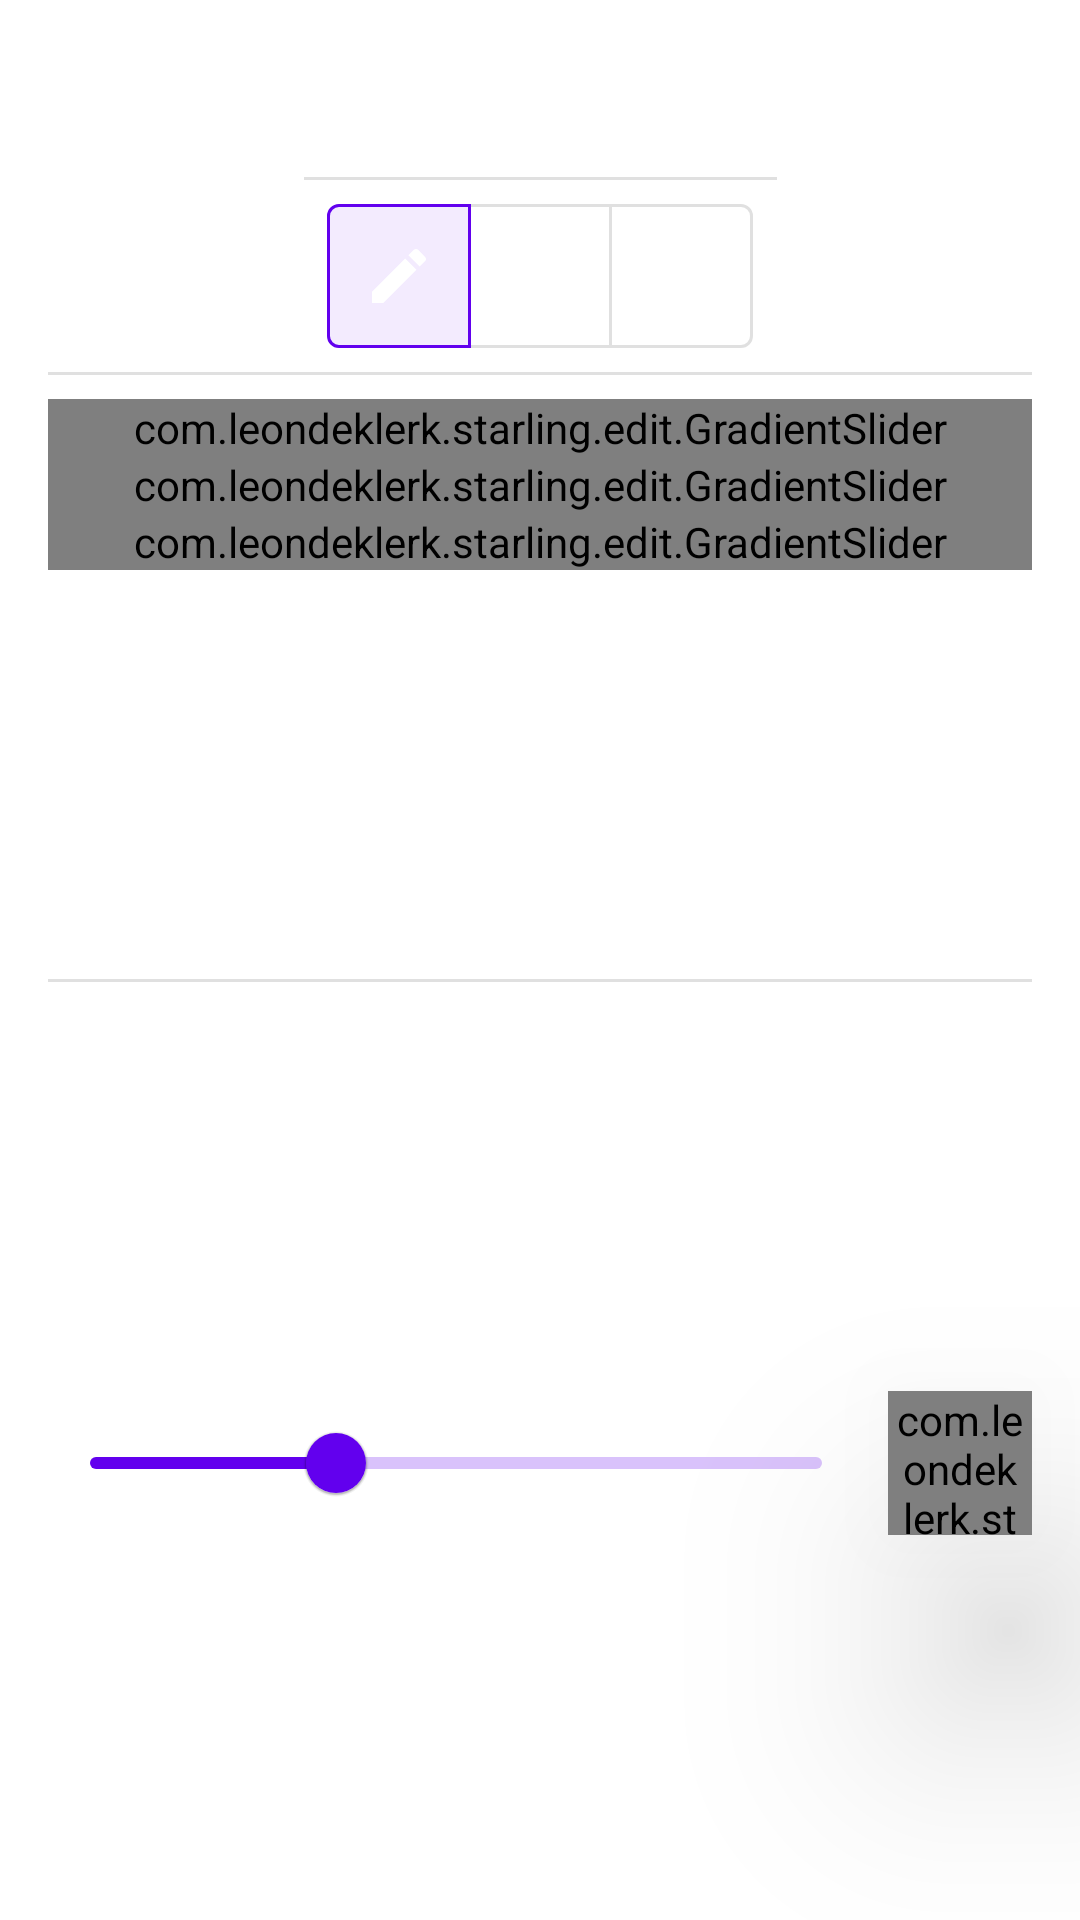

Named icons in this screenshot (1080px x 1920px) and their centers, point (x, y):
pencil: point (399, 276)
